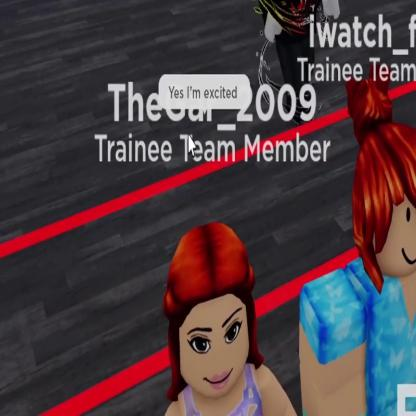Roblox-Avatar: (300, 64, 416, 416), (164, 222, 300, 416)
